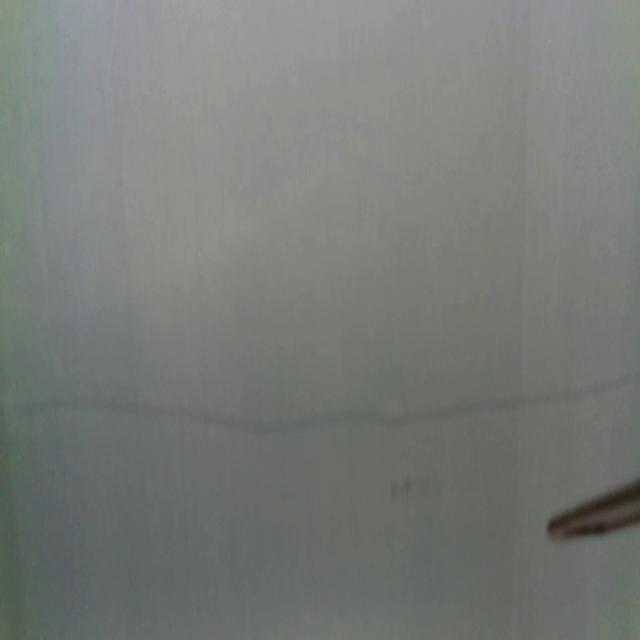color bleeding: (1, 367, 640, 443)
